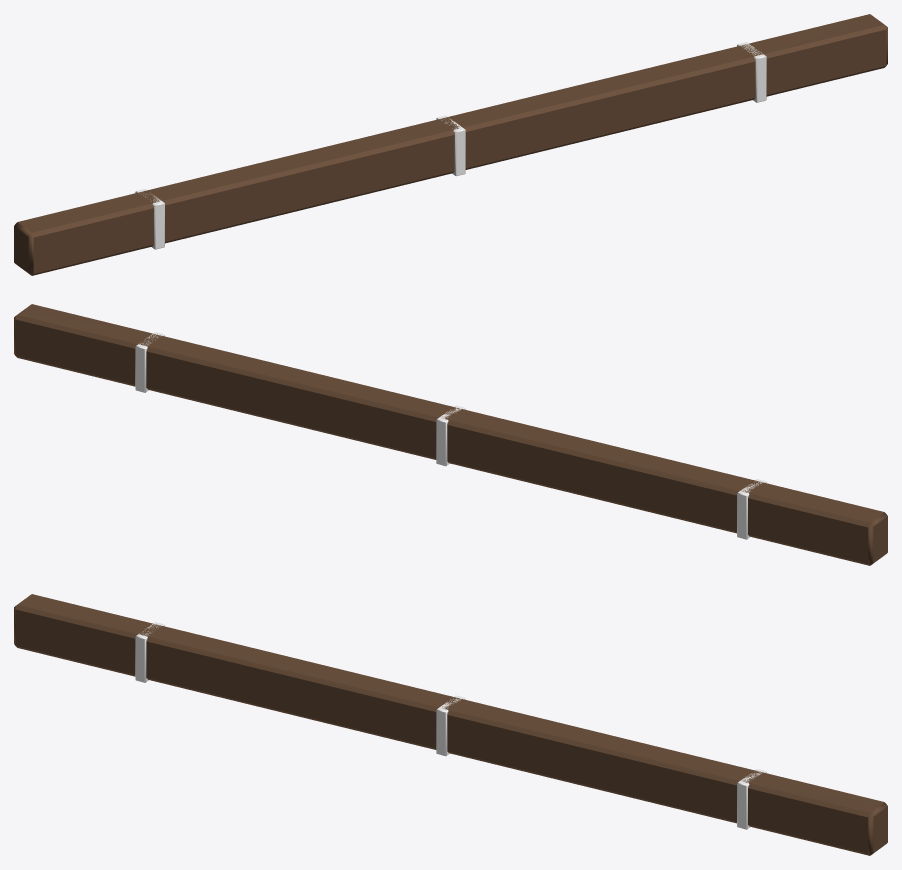
Rendered from deco_ceiling_beam_4.glb.
3 renders of one model, top to bottom at view 1: azimuth 30°, elevation 25°; view 2: azimuth 150°, elevation 25°; view 3: azimuth 330°, elevation 25°, orthographic.
Visible parts, largest first — view 1: deco_ceiling_beam_4; view 2: deco_ceiling_beam_4; view 3: deco_ceiling_beam_4.
Part boxes in pixels (x1=…): deco_ceiling_beam_4: x1=14, y1=14, x2=887, y2=275; deco_ceiling_beam_4: x1=14, y1=304, x2=887, y2=565; deco_ceiling_beam_4: x1=14, y1=594, x2=887, y2=855.
Bounding box in the file's own units: 4 × 0.2 × 0.16.
